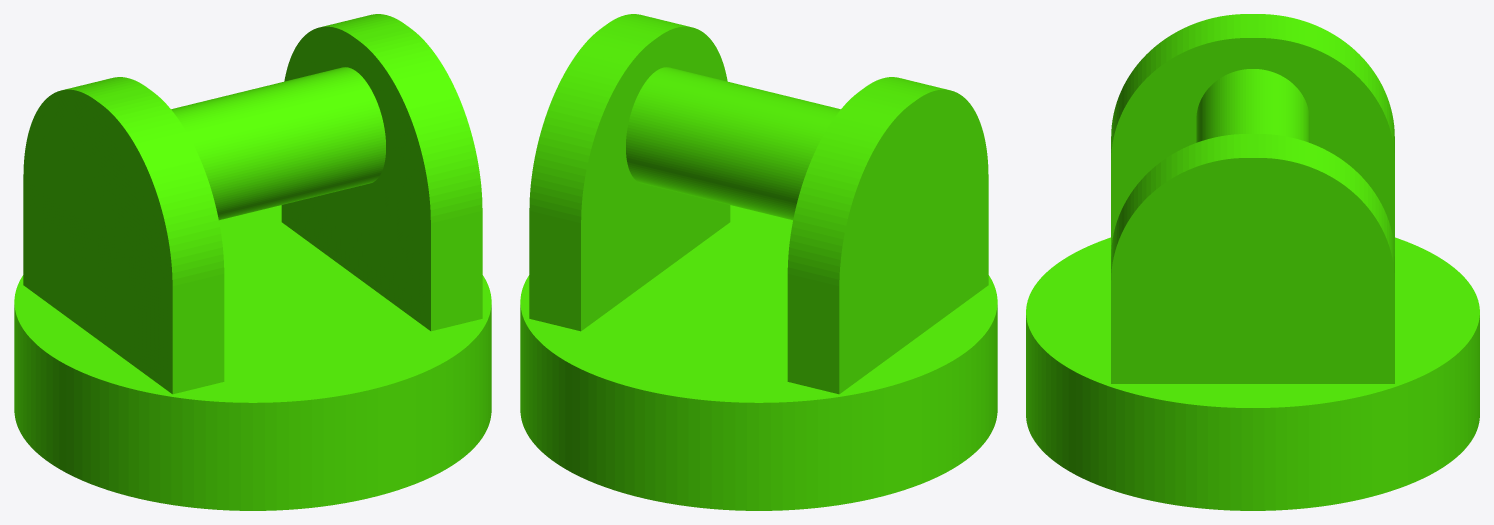
Rendered from first_link.dae.
The picture shows the model from 3 angles, left to right: view 1: azimuth 30°, elevation 25°; view 2: azimuth 150°, elevation 25°; view 3: azimuth 270°, elevation 25°; orthographic projection. The views are drawn at different scales.
Parts seen in each view (by area): view 1: node0; view 2: node0; view 3: node0.
Boxes of the visible parts, x1,y1,x2,y2 form: node0: [14, 14, 491, 510]; node0: [520, 14, 997, 510]; node0: [1026, 14, 1479, 510].
Size of the model in its own units: 0.4 by 0.3999 by 0.32.
